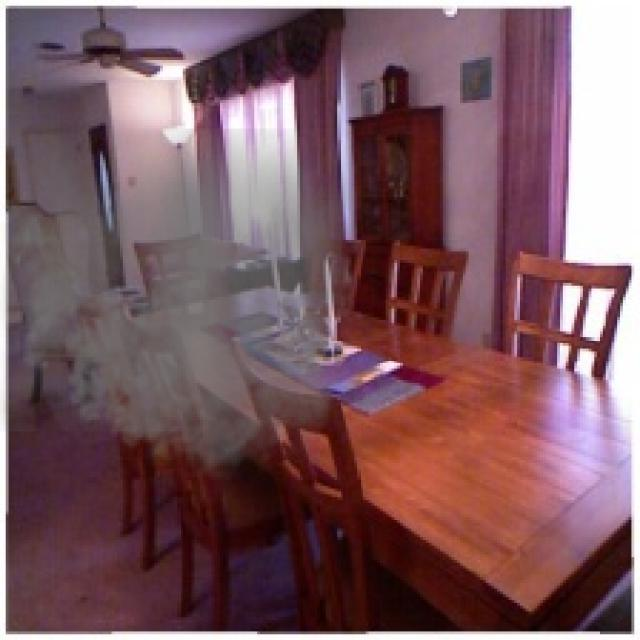smoke: (0, 128, 355, 492)
